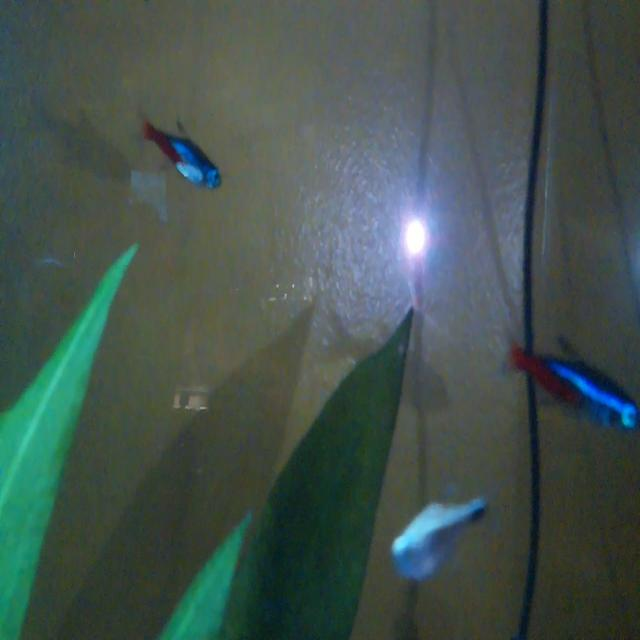fish: (504, 329, 640, 448), (389, 486, 487, 587), (139, 102, 228, 202)
